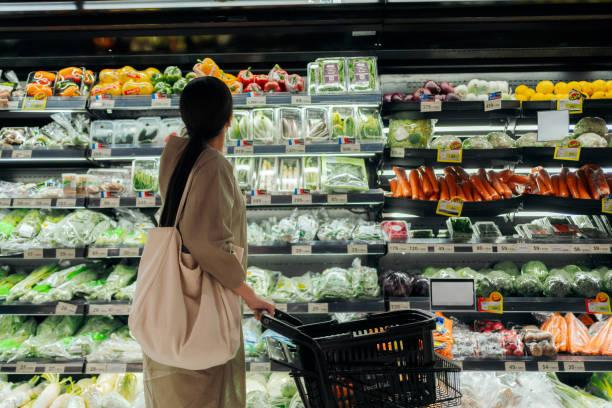Non_Gorille: (10, 23, 575, 408)
